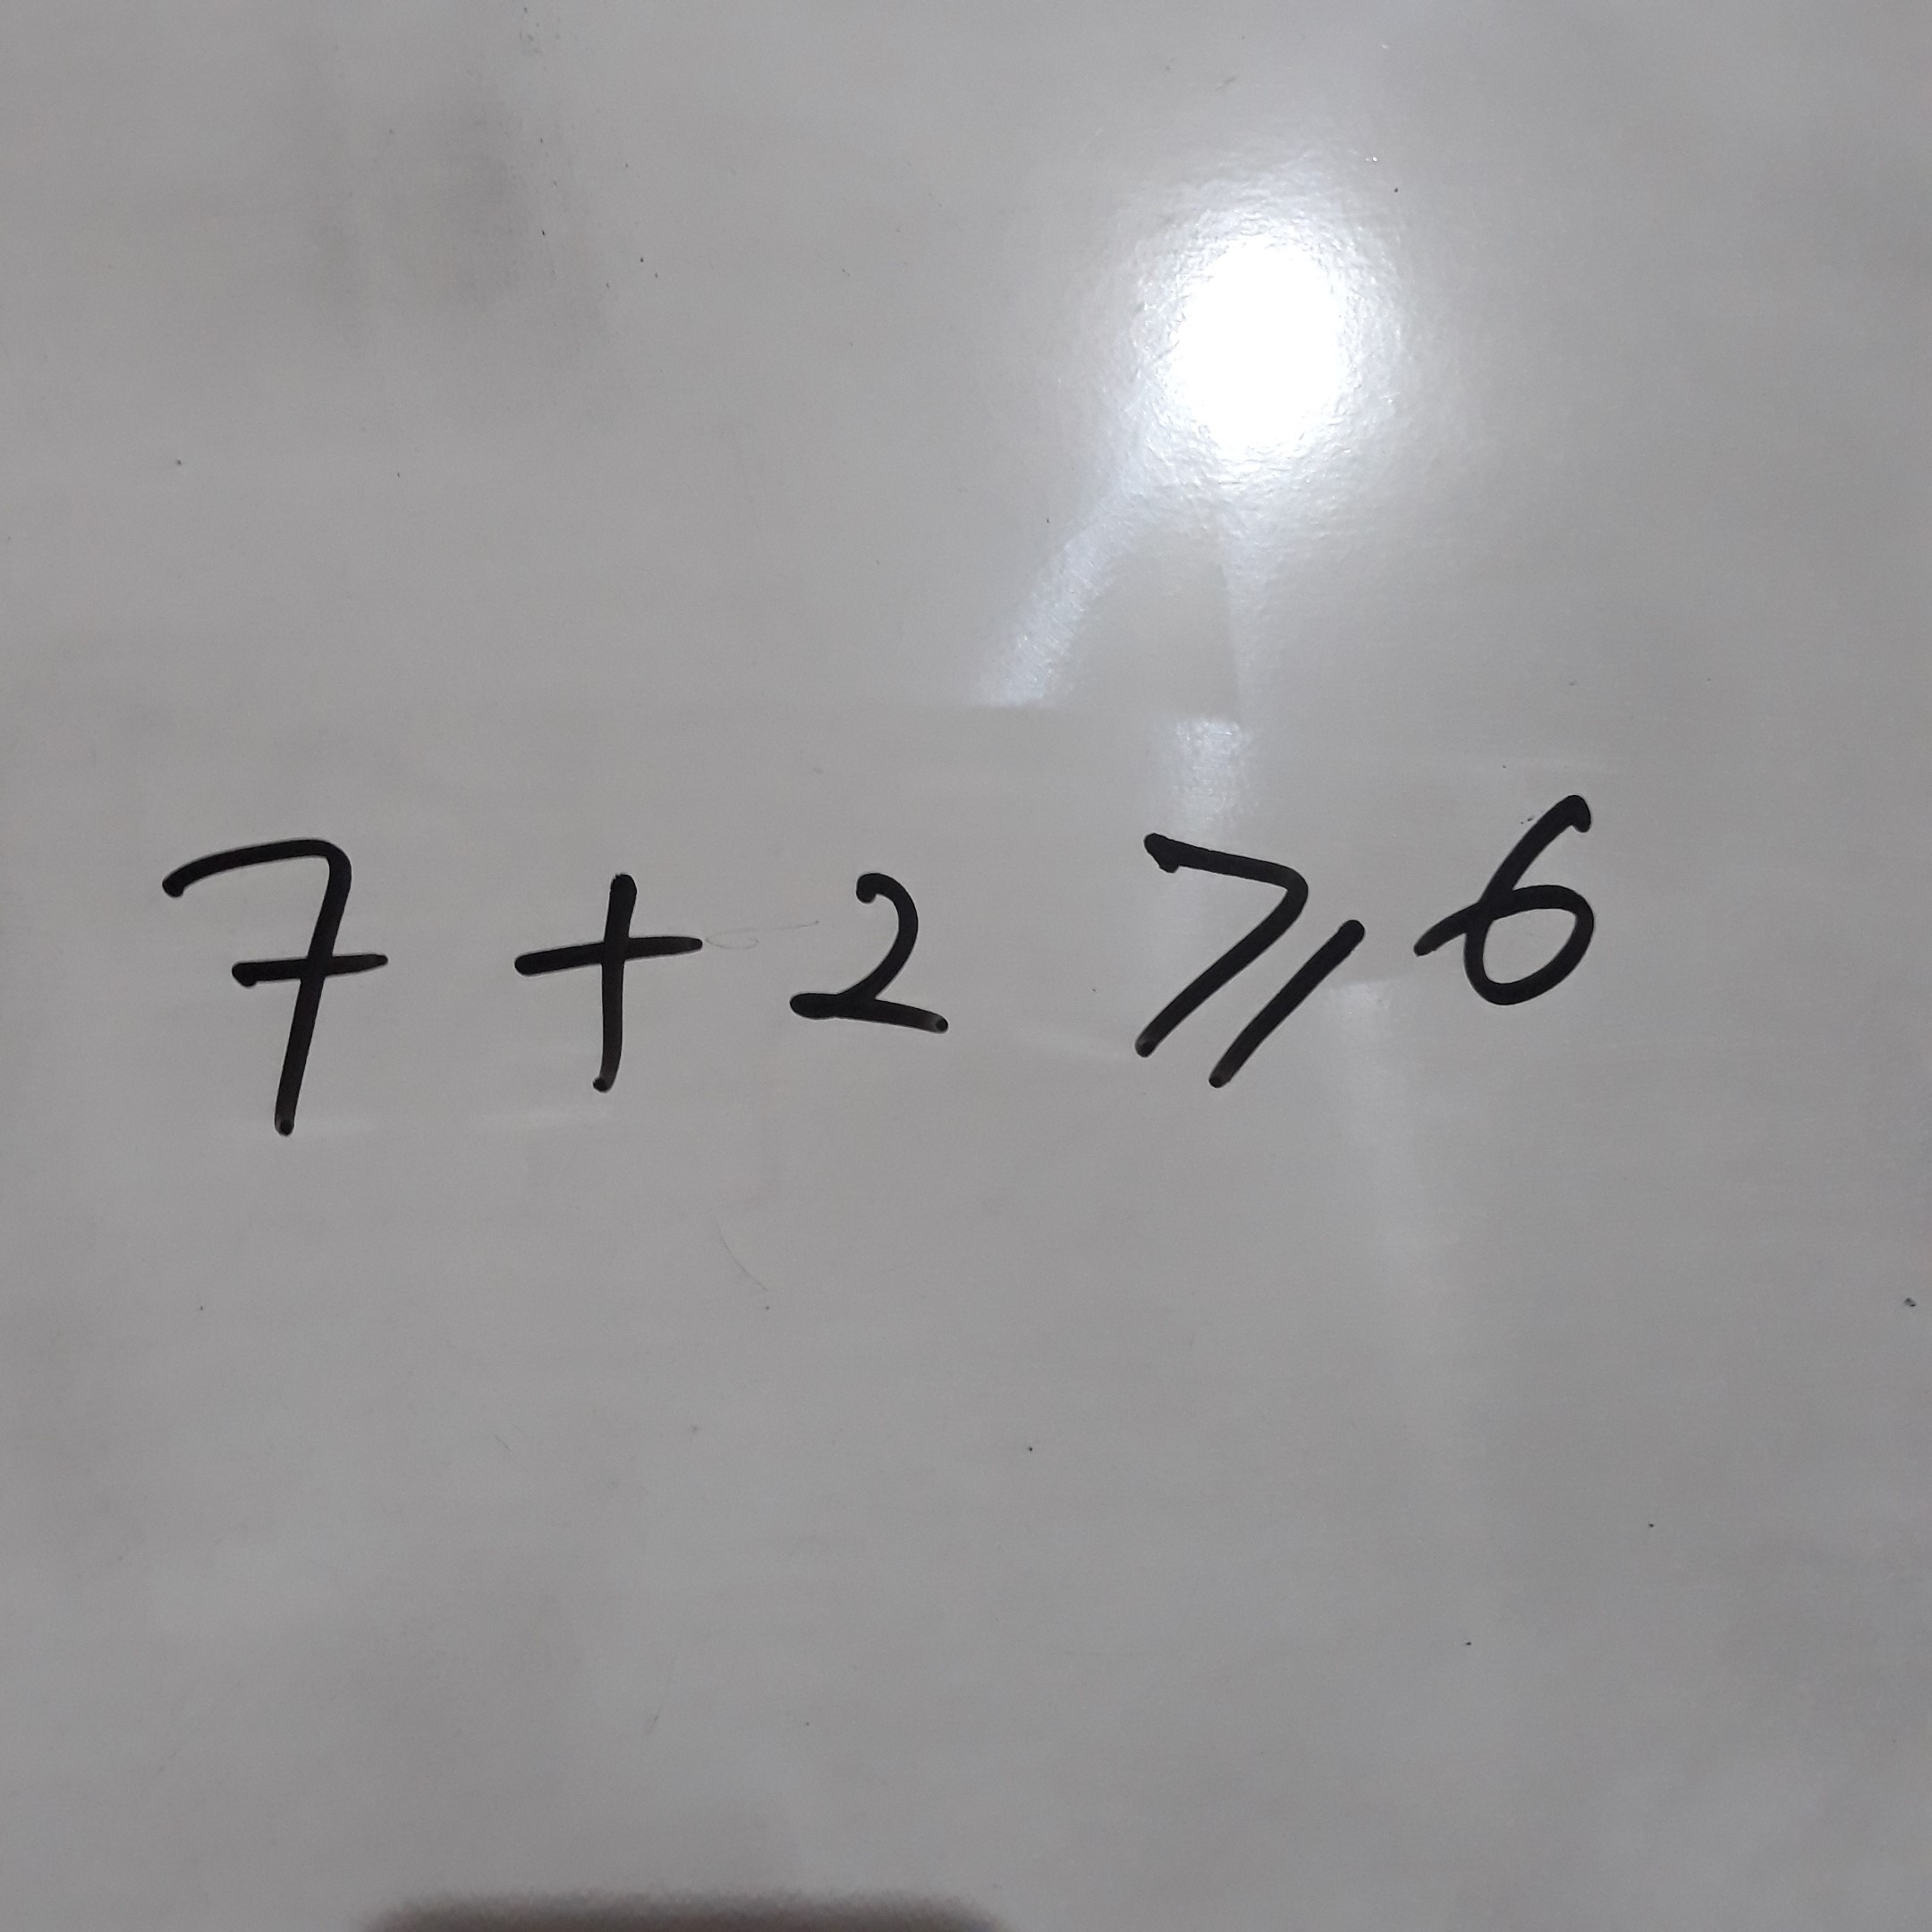morethan-equal: (1119, 806, 1383, 1119)
num2: (770, 847, 982, 1057)
num6: (1411, 765, 1639, 1055)
num7: (136, 806, 421, 1171)
sum: (476, 839, 712, 1119)
